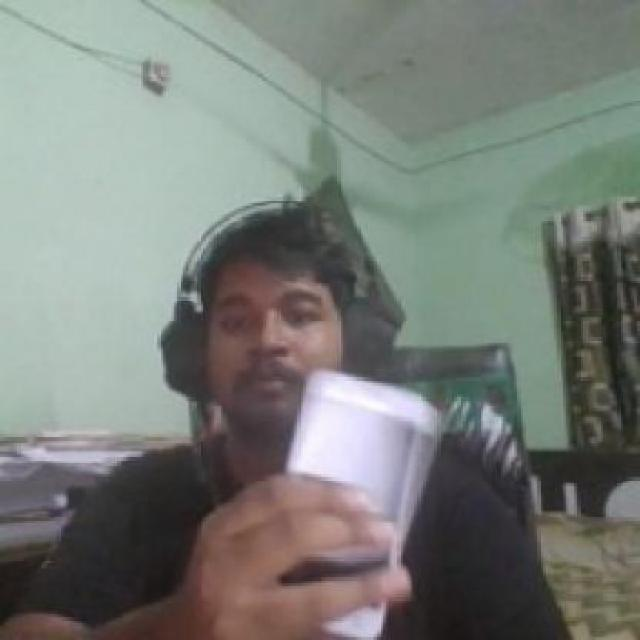Phone: (280, 363, 432, 640)
